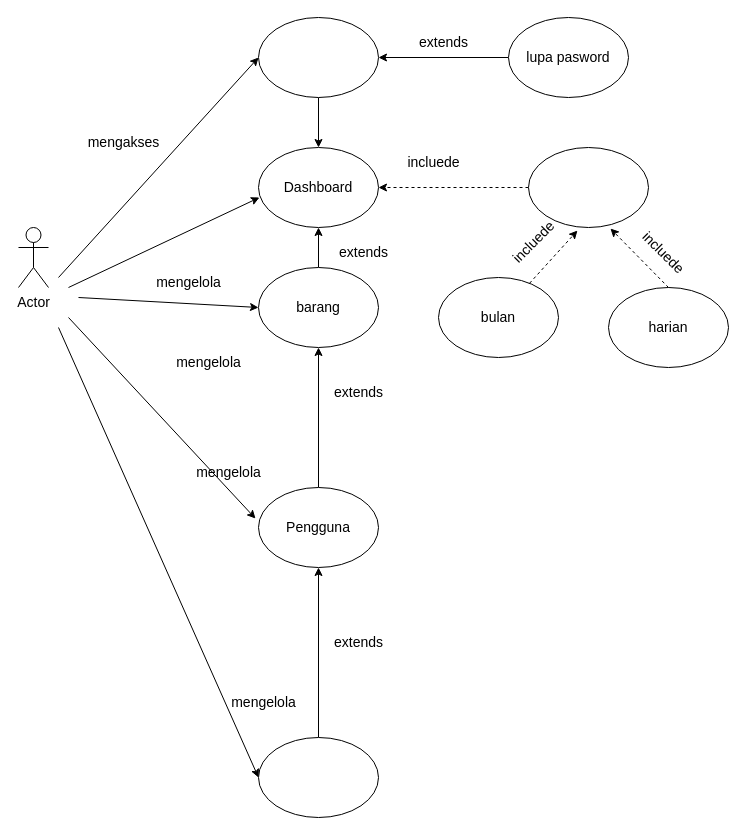
Some shapes in this 746 by 835 pixel diagram are drawn without their labels. The shapes that lost their labels are listed below. From the top down, each one's centre as x and y in pixels, then its label:
(x=318, y=57): Login
(x=588, y=187): laporan
(x=318, y=777): Analisa Barang
